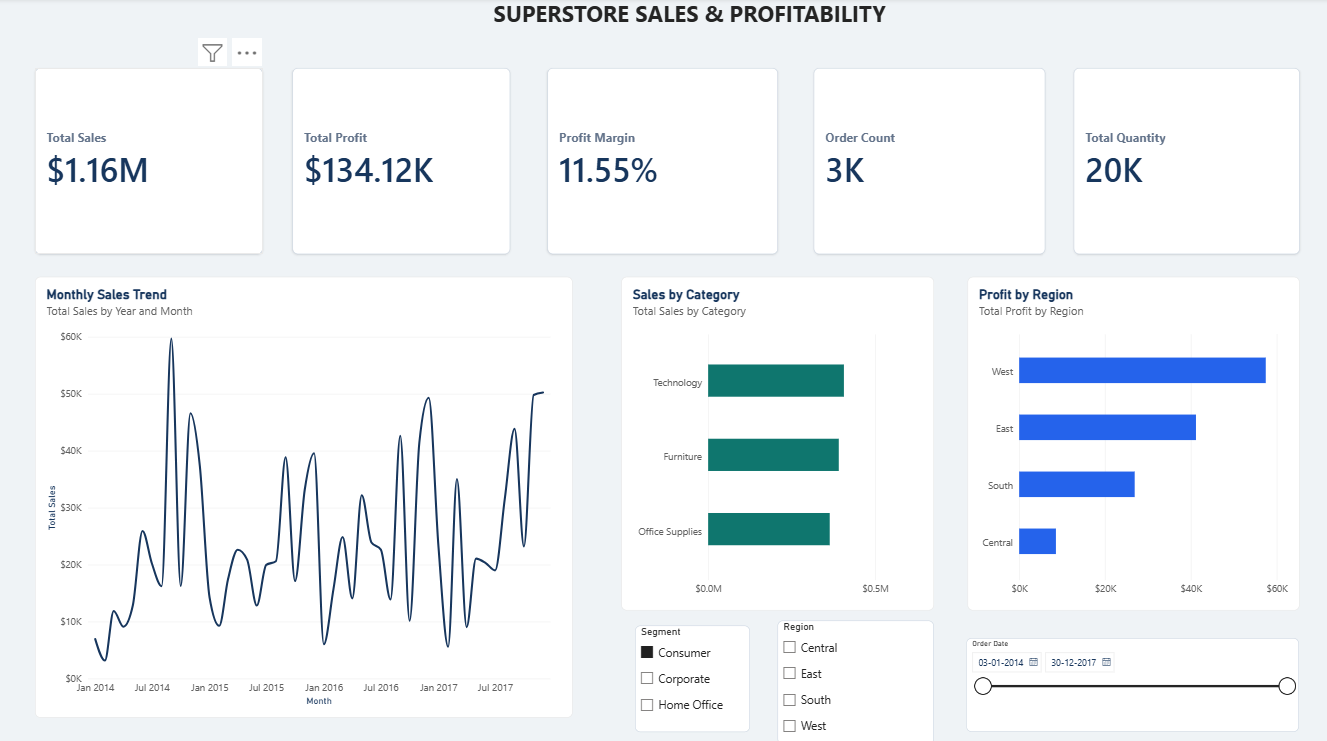

What the dashboard file says about the page in this screenshot:
{"tool":"powerbi","page":{"name":"Page 1","canvas":[1920,1080],"ordinal":0},"visuals":[{"type":"cardVisual","fields":{"Data":["Sample_Superstore.Total Sales"]},"box":[51.5,100.9,329.3,269.6],"z":0},{"type":"cardVisual","fields":{"Data":["Sample_Superstore.Total Profit"]},"box":[424,100.9,314.9,269.6],"z":1000},{"type":"cardVisual","fields":{"Data":["Sample_Superstore.Total Quantity"]},"box":[1554,100.9,327.3,269.6],"z":2000},{"type":"cardVisual","fields":{"Data":["Sample_Superstore.Order Count"]},"box":[1177.4,100.9,335.5,269.6],"z":3000},{"type":"cardVisual","fields":{"Data":["Sample_Superstore.Profit Margin"]},"box":[792.5,100.9,333.4,269.6],"z":4000},{"type":"textbox","box":[582.5,0,831.6,76.2],"z":6000},{"type":"lineChart","title":"Monthly Sales Trend","fields":{"Y":["Sample_Superstore.Total Sales"],"Category":["Sample_Superstore.Order Date.Variation.Date Hierarchy.Year","Sample_Superstore.Order Date.Variation.Date Hierarchy.Month"]},"box":[51.1,404.3,778.7,638.3],"z":7000},{"type":"clusteredBarChart","title":"Sales by Category","fields":{"Category":["Sample_Superstore.Category"],"Y":["Sample_Superstore.Total Sales"]},"box":[899.5,403.4,453.2,483],"z":8000},{"type":"clusteredBarChart","title":"Profit by Region","fields":{"Category":["Sample_Superstore.Region"],"Y":["Sample_Superstore.Total Profit"]},"box":[1400,404.3,480.9,483],"z":9000},{"type":"slicer","fields":{"Values":["Sample_Superstore.Region"]},"box":[1125.9,901.5,226.4,179.1],"z":10000},{"type":"slicer","fields":{"Values":["Sample_Superstore.Order Date"]},"box":[1399.7,926.2,481.6,135.8],"z":11000},{"type":"slicer","fields":{"Values":["Sample_Superstore.Segment"]},"box":[920.1,907.7,166.7,154.4],"z":12000}]}

Visuals, with their boxes in screenshot pixels (x1, y1, x2, y2), scaled from the page's 1920x1080 canvas onto the 1327x741 screenshot:
cardVisual - Sample_Superstore.Total Sales: [36,69,263,254]
cardVisual - Sample_Superstore.Total Profit: [293,69,511,254]
cardVisual - Sample_Superstore.Total Quantity: [1074,69,1300,254]
cardVisual - Sample_Superstore.Order Count: [814,69,1046,254]
cardVisual - Sample_Superstore.Profit Margin: [548,69,778,254]
textbox: [403,0,977,52]
"Monthly Sales Trend" lineChart: [35,277,574,715]
"Sales by Category" clusteredBarChart: [622,277,935,608]
"Profit by Region" clusteredBarChart: [968,277,1300,609]
slicer - Sample_Superstore.Region: [778,619,935,740]
slicer - Sample_Superstore.Order Date: [967,635,1300,729]
slicer - Sample_Superstore.Segment: [636,623,751,729]
